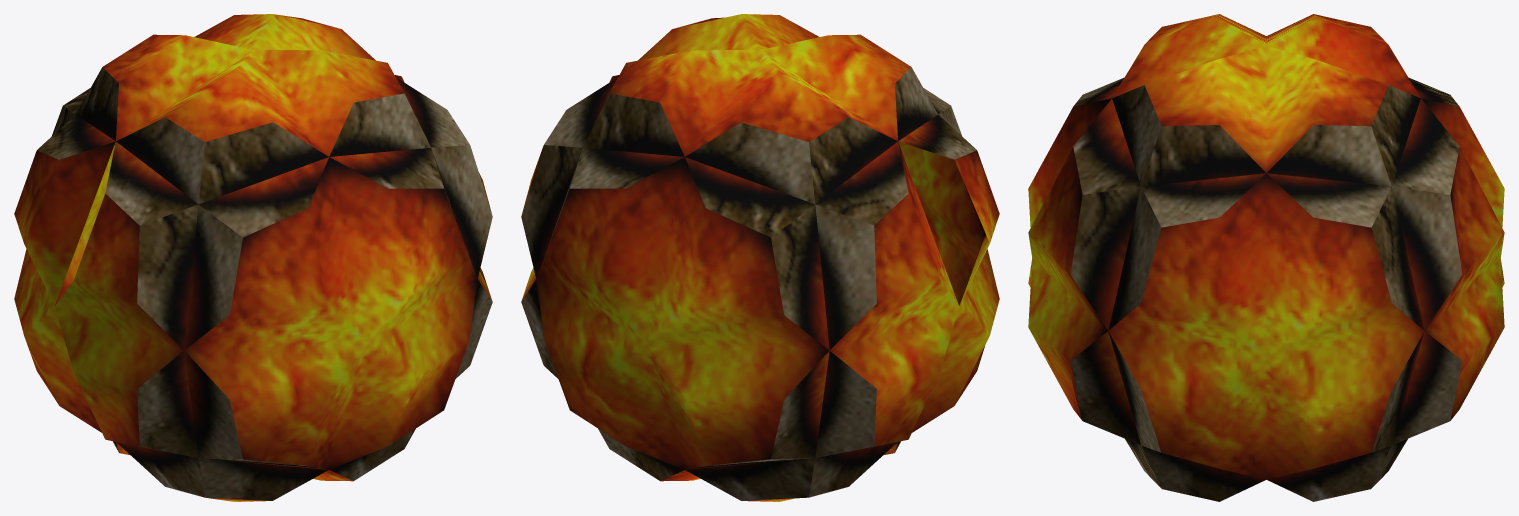
Rendered from datan_common_rune03_47ee22d0.obj.
The picture shows the model from 3 angles, left to right: view 1: azimuth 30°, elevation 25°; view 2: azimuth 150°, elevation 25°; view 3: azimuth 270°, elevation 25°; orthographic projection. The views are drawn at different scales.
Visible parts, largest first — view 1: datan_common_rune03_47ee22d0; view 2: datan_common_rune03_47ee22d0; view 3: datan_common_rune03_47ee22d0.
Part boxes in pixels (bbox=[...]): datan_common_rune03_47ee22d0: bbox=[14, 14, 492, 501]; datan_common_rune03_47ee22d0: bbox=[521, 14, 999, 501]; datan_common_rune03_47ee22d0: bbox=[1028, 14, 1504, 501].
Size of the model in its own units: 0.8301 by 0.8347 by 0.8204.
Materials: 1 (1 with a texture image).
